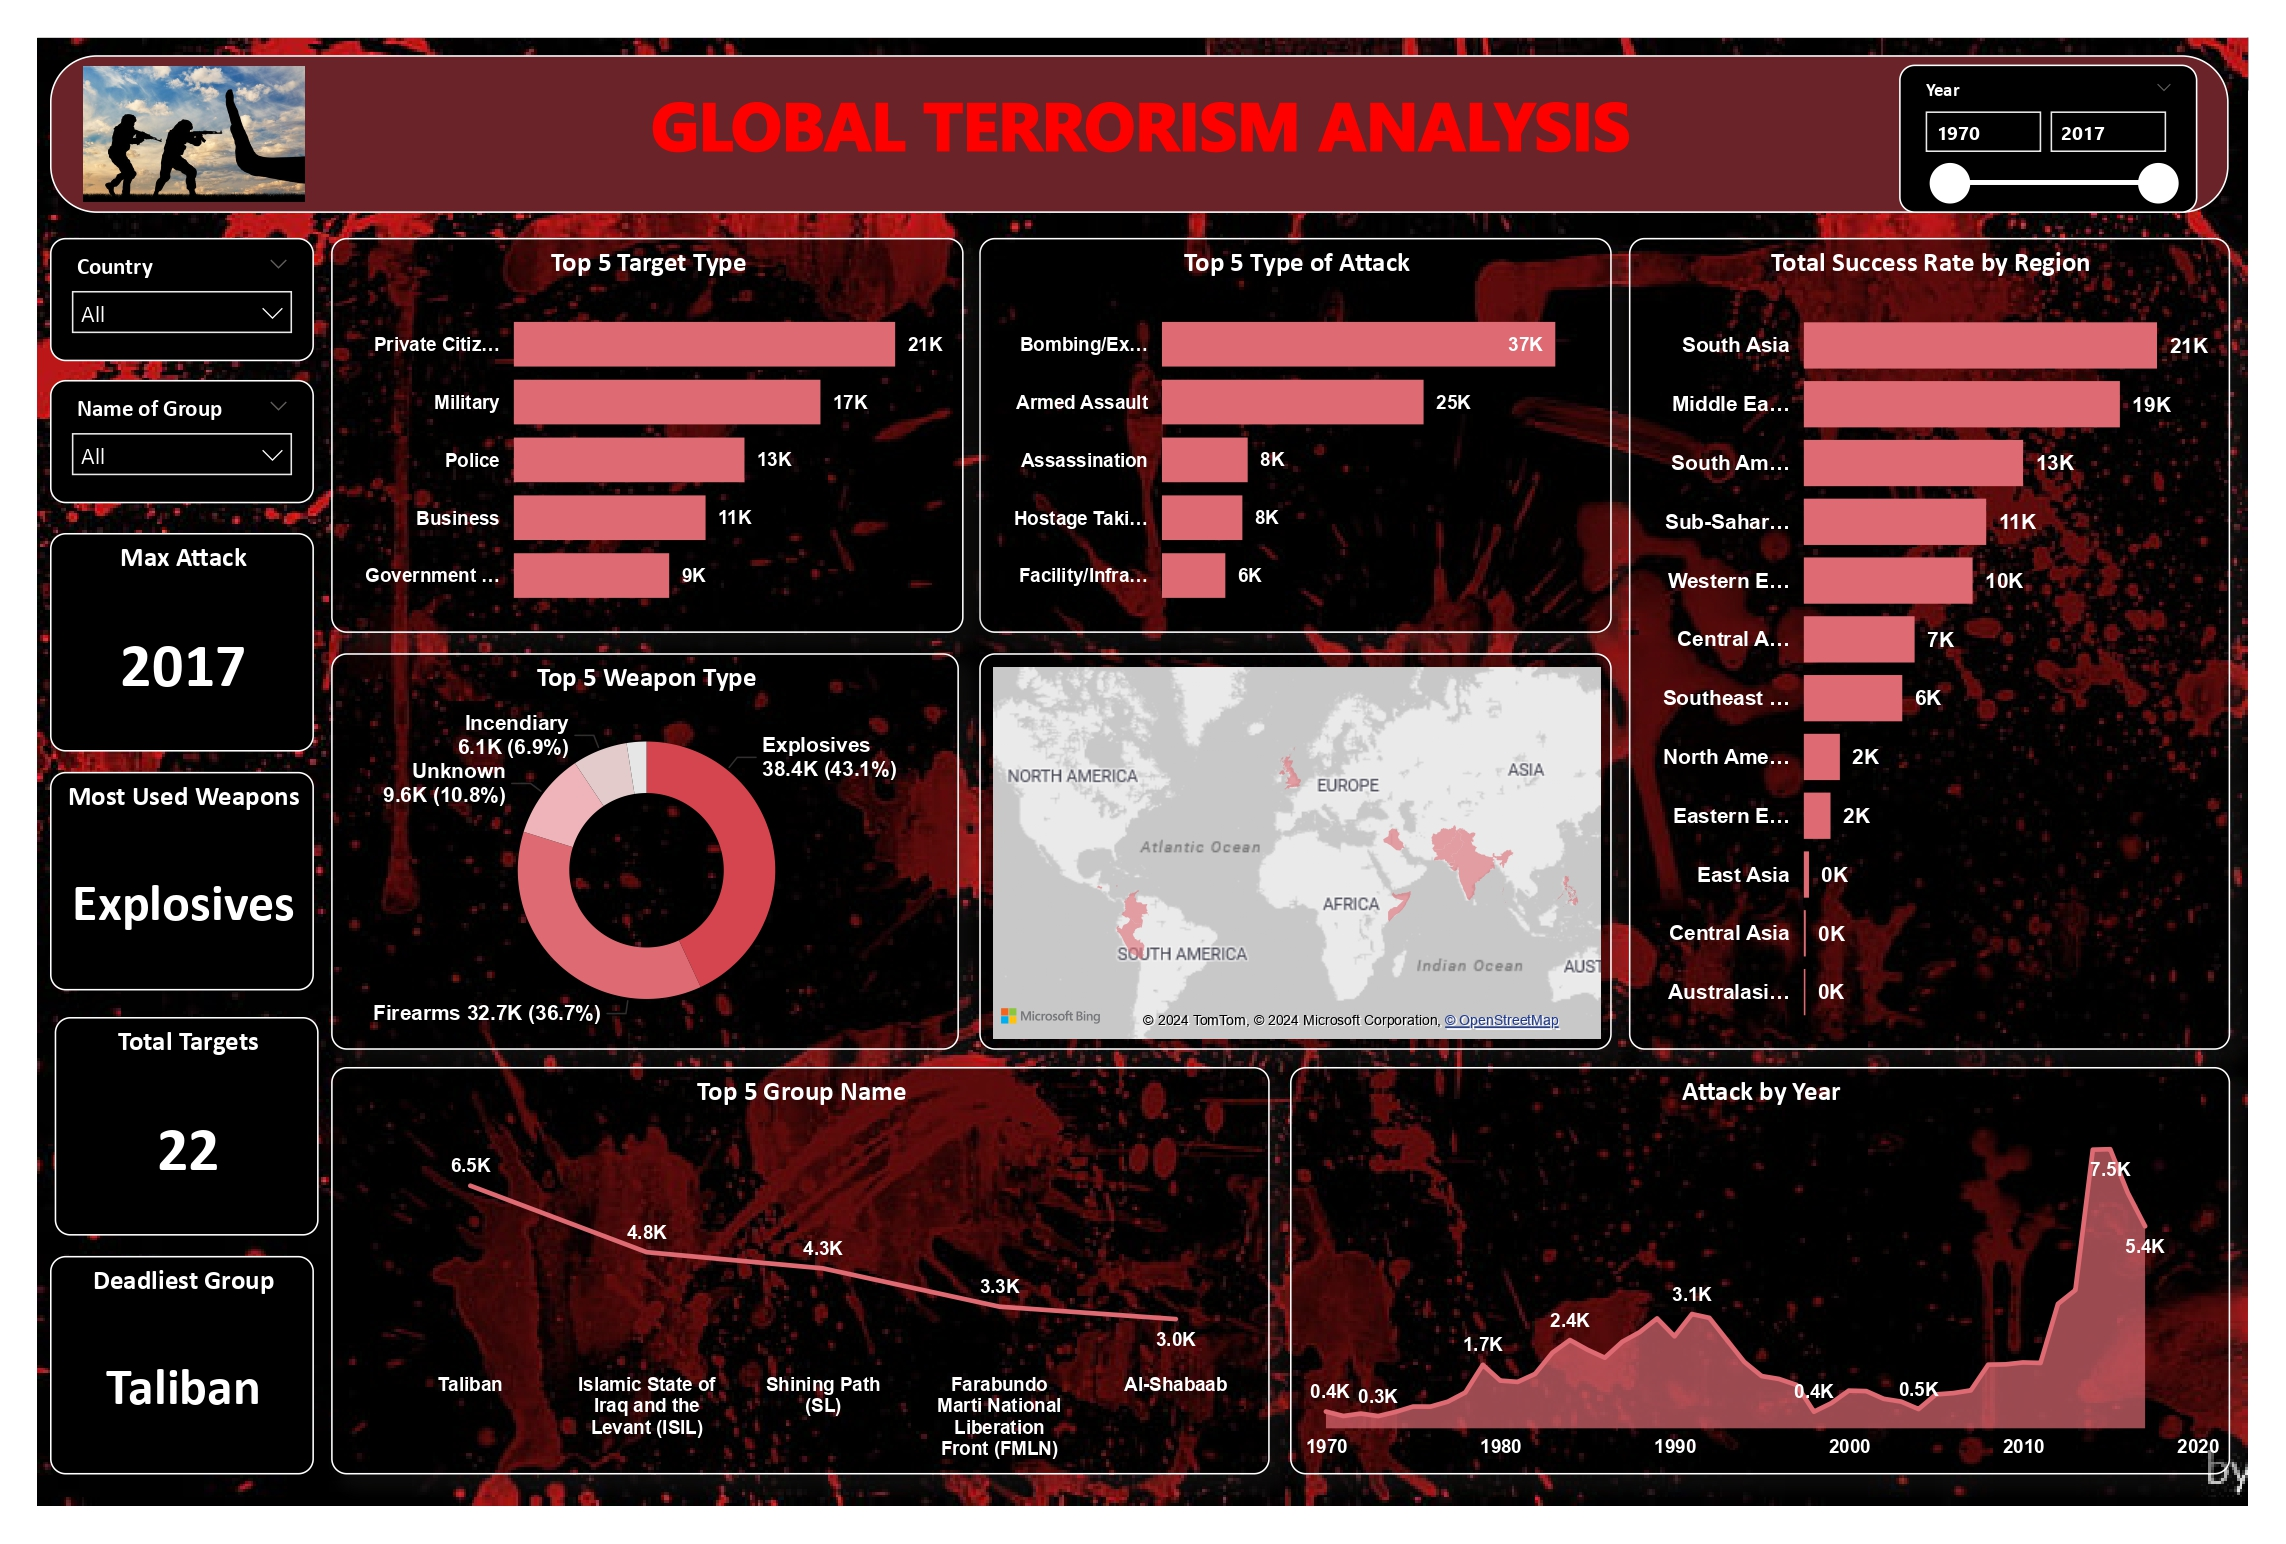

This screenshot's page, from the dashboard's own definition file:
{"tool":"powerbi","page":{"name":"Global Terrorism Report","canvas":[1415,940],"ordinal":0},"visuals":[{"type":"textbox","box":[7.9,11,1395.5,100.8],"z":0},{"type":"image","box":[23.6,12.6,152.8,97.7],"z":1000},{"type":"barChart","title":"Top 5 Type of Attack","fields":{"Category":["Global Terrorism.Type of Attack"],"Y":["Global Terrorism.Total Success Rate"]},"box":[602.9,127.6,405.1,253.6],"z":2000},{"type":"barChart","title":"Top 5 Target Type","fields":{"Category":["Global Terrorism.Target Type"],"Y":["Global Terrorism.Total Success Rate"]},"box":[188.2,127.6,405,253.6],"z":3000},{"type":"donutChart","title":"Top 5 Weapon Type","fields":{"Category":["Global Terrorism.Weapon Type"],"Y":["Global Terrorism.Total Success Rate"]},"box":[188.2,393.9,401.9,253.6],"z":4000},{"type":"filledMap","fields":{"Category":["Global Terrorism.Country"],"Y":["Global Terrorism.Total Success Rate"]},"box":[602.9,393.9,405.1,253.6],"z":5000},{"type":"barChart","fields":{"Category":["Global Terrorism.Region"],"Y":["Global Terrorism.Total Success Rate"]},"box":[1019.2,127.6,384.4,519.9],"z":6000},{"type":"card","title":"Deadliest Group","fields":{"Values":["Min(Global Terrorism.Name of Group)"]},"box":[8,779.9,169,140.4],"z":7000},{"type":"card","title":"Most Used Weapons","fields":{"Values":["Min(Global Terrorism.Weapon Type)"]},"box":[8,470,169.1,140.4],"z":8000},{"type":"card","title":"Total Targets","fields":{"Values":["Global Terrorism.Total Target"]},"box":[11,627,169,140],"z":9000},{"type":"card","title":"Max Attack","fields":{"Values":["Max(Global Terrorism.Year)"]},"box":[8,317,169,140.4],"z":10000},{"type":"lineChart","title":"Top 5 Group Name","fields":{"Category":["Global Terrorism.Name of Group"],"Y":["Global Terrorism.Total Success Rate"]},"box":[188.2,658.7,601,261.6],"z":11000},{"type":"areaChart","title":" Attack by Year","fields":{"Category":["Global Terrorism.Year"],"Y":["CountNonNull(Global Terrorism.Type of Attack)"]},"box":[802.2,658.7,601.3,261.6],"z":12000},{"type":"slicer","fields":{"Values":["Global Terrorism.Country"]},"box":[8,127.6,169.1,79],"z":13000},{"type":"slicer","fields":{"Values":["Global Terrorism.Name of Group"]},"box":[8,218.5,169.1,79.7],"z":14000},{"type":"slicer","fields":{"Values":["Global Terrorism.Year"]},"box":[1192.3,17.3,190.6,94.5],"z":15000}]}

Visuals, with their boxes in screenshot pixels (x1, y1, x2, y2):
textbox: detection(50, 55, 2230, 212)
image: detection(74, 57, 313, 210)
"Top 5 Type of Attack" barChart: detection(980, 237, 1613, 633)
"Top 5 Target Type" barChart: detection(332, 237, 964, 633)
"Top 5 Weapon Type" donutChart: detection(332, 653, 960, 1049)
filledMap - Global Terrorism.Country x Global Terrorism.Total Success Rate: detection(980, 653, 1613, 1049)
barChart - Global Terrorism.Region x Global Terrorism.Total Success Rate: detection(1630, 237, 2231, 1049)
"Deadliest Group" card: detection(50, 1256, 314, 1476)
"Most Used Weapons" card: detection(50, 772, 314, 991)
"Total Targets" card: detection(55, 1017, 319, 1236)
"Max Attack" card: detection(50, 533, 314, 752)
"Top 5 Group Name" lineChart: detection(332, 1067, 1271, 1476)
" Attack by Year" areaChart: detection(1291, 1067, 2231, 1476)
slicer - Global Terrorism.Country: detection(50, 237, 314, 360)
slicer - Global Terrorism.Name of Group: detection(50, 379, 314, 504)
slicer - Global Terrorism.Year: detection(1901, 65, 2198, 212)
